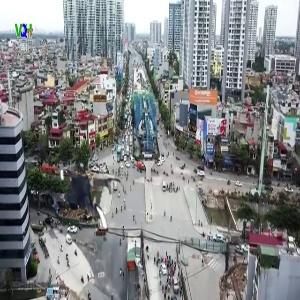drone: (36, 157, 132, 253)
